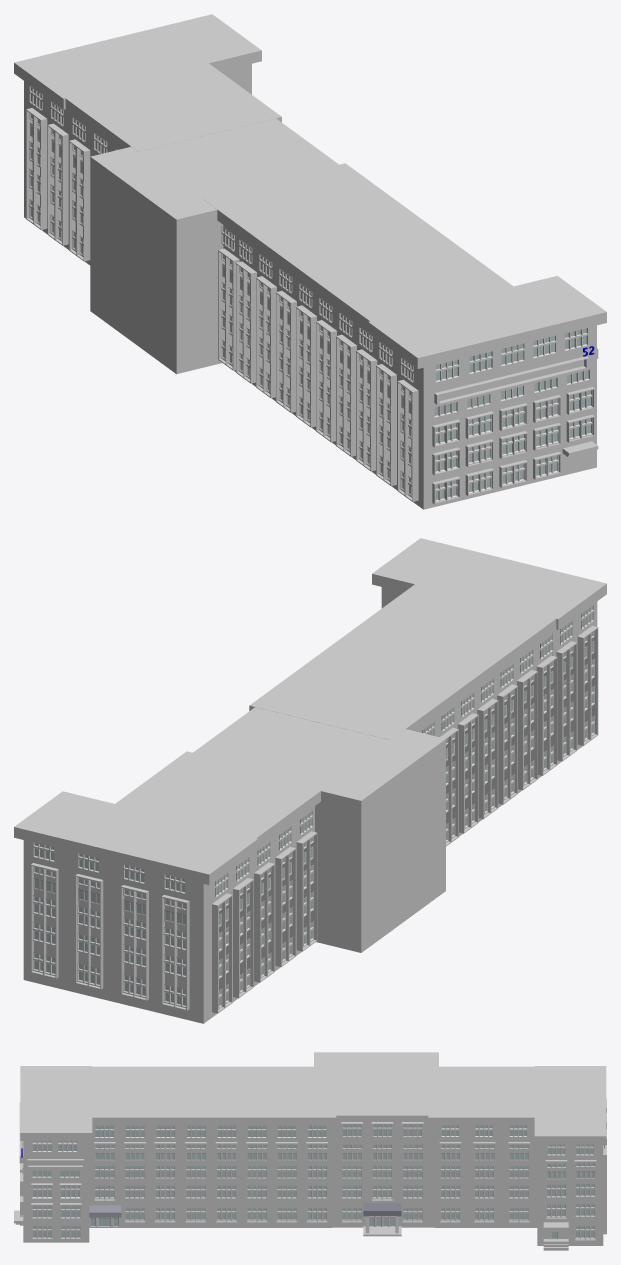
File: 미대건물.fbx
3 renders of one model, top to bottom at view 1: azimuth 30°, elevation 25°; view 2: azimuth 150°, elevation 25°; view 3: azimuth 270°, elevation 25°, orthographic. The views are drawn at different scales.
Visible parts, largest first — view 1: transform145, transform120, transform9, transform152, transform163, transform580, transform635, transform581, transform579, transform636, transform637, transform643 (+7 smaller); view 2: transform145, transform163, transform120, transform152, transform9, transform578, transform576, transform575, transform577, transform583, transform635, transform637 (+10 smaller); view 3: transform120, transform145, transform152, transform163, transform9, transform573, transform561, transform459, polySurface1, transform633, transform468, transform626 (+46 smaller).
Boxes of the visible parts, bbox=[...] form: transform145: bbox=[90, 118, 338, 374]; transform120: bbox=[202, 163, 540, 474]; transform9: bbox=[368, 276, 606, 509]; transform152: bbox=[60, 59, 281, 265]; transform163: bbox=[14, 14, 261, 249]; transform580: bbox=[47, 101, 68, 245]; transform635: bbox=[397, 357, 418, 501]; transform581: bbox=[69, 117, 90, 261]; transform579: bbox=[26, 85, 47, 229]; transform636: bbox=[376, 341, 396, 485]; transform637: bbox=[356, 327, 377, 471]; transform643: bbox=[236, 239, 256, 383]; transform145: bbox=[193, 707, 445, 952]; transform163: bbox=[14, 791, 257, 1023]; transform120: bbox=[249, 564, 582, 836]; transform152: bbox=[112, 751, 327, 986]; transform9: bbox=[372, 538, 606, 764]; transform578: bbox=[161, 874, 189, 1010]; transform576: bbox=[75, 853, 103, 989]; transform575: bbox=[30, 842, 58, 978]; transform577: bbox=[121, 864, 148, 1000]; transform583: bbox=[296, 810, 317, 951]; transform635: bbox=[577, 604, 598, 745]; transform637: bbox=[536, 634, 557, 775]; transform120: bbox=[51, 1066, 336, 1227]; transform145: bbox=[314, 1052, 438, 1227]; transform152: bbox=[428, 1066, 542, 1227]; transform163: bbox=[534, 1066, 606, 1245]; transform9: bbox=[20, 1066, 92, 1242]; transform573: bbox=[574, 1144, 596, 1240]; transform561: bbox=[508, 1125, 529, 1222]; transform459: bbox=[363, 1203, 401, 1216]; polySurface1: bbox=[89, 1205, 121, 1217]; transform633: bbox=[59, 1183, 81, 1199]; transform468: bbox=[363, 1226, 401, 1236]; transform626: bbox=[31, 1183, 52, 1199].
Size of the model in its own units: 21.24 by 12.9 by 61.51.
